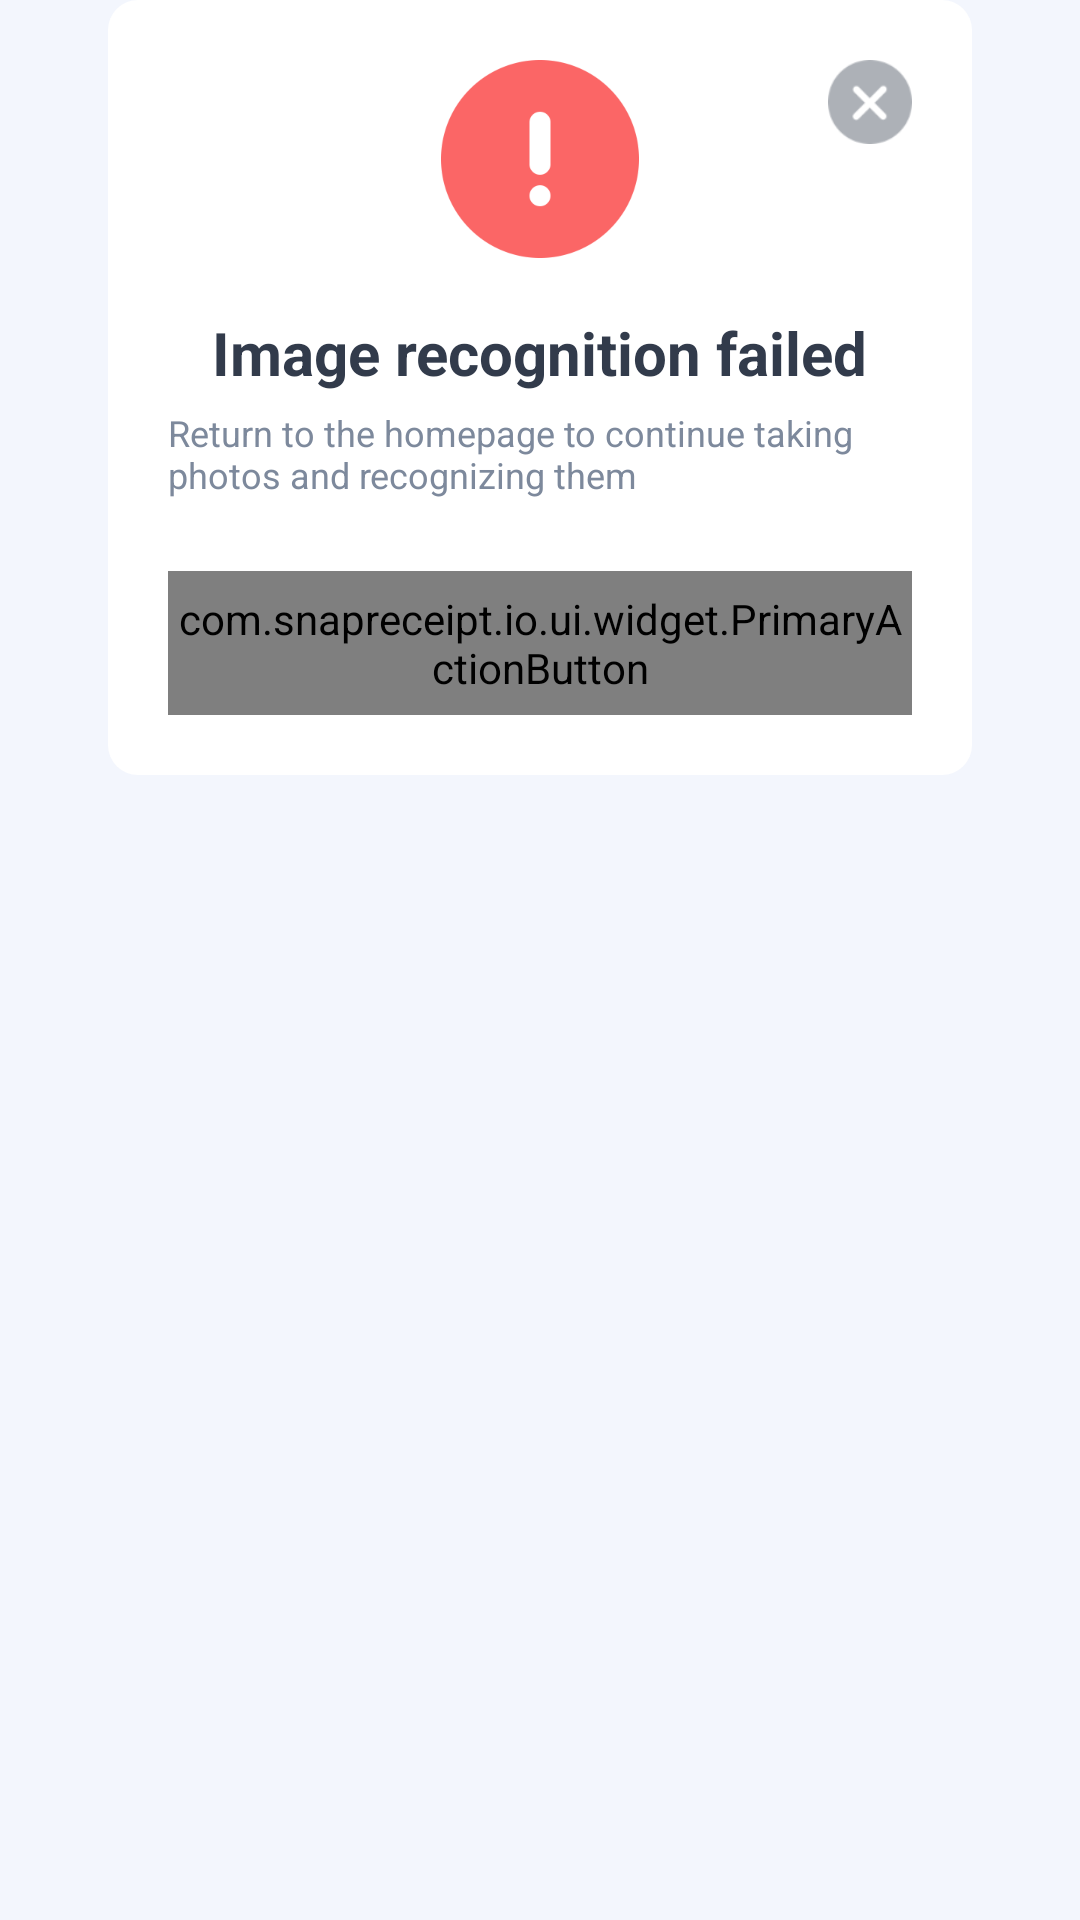

Locate icon controls on the screen. Image size 1080x1920, boxes as [x1, y1, x2, y2].
Cancel: [828, 60, 912, 144]
Recognition failed, please retry: [441, 60, 639, 258]
